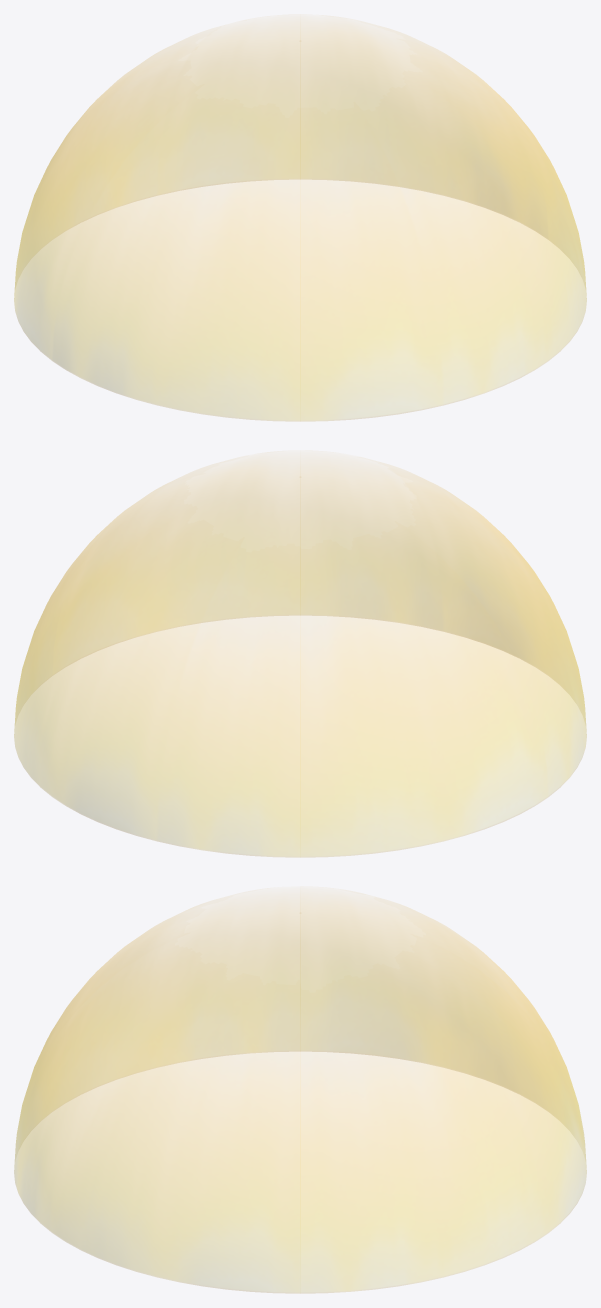
The model's file is shock_dome_gold.glb.
3 renders of one model, top to bottom at view 1: azimuth 30°, elevation 25°; view 2: azimuth 150°, elevation 25°; view 3: azimuth 270°, elevation 25°, orthographic.
Parts seen in each view (by area): view 1: dome; view 2: dome; view 3: dome.
Part boxes in pixels (x1,y1,x2,y2): dome: (14,26,586,421); dome: (14,466,586,857); dome: (14,899,586,1293).
Size of the model in its own units: 2 by 1 by 2.
Materials: 1 (1 with a texture image).
